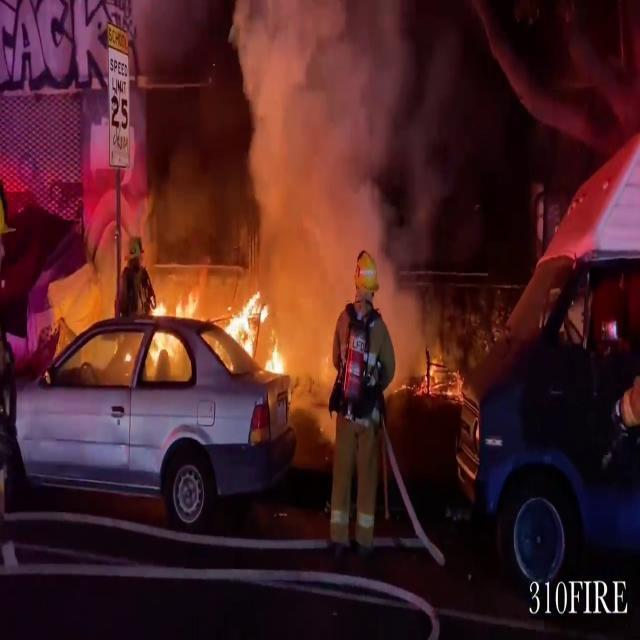Fire: (221, 282, 291, 378), (149, 282, 201, 330)
Smoke: (130, 0, 458, 325)
